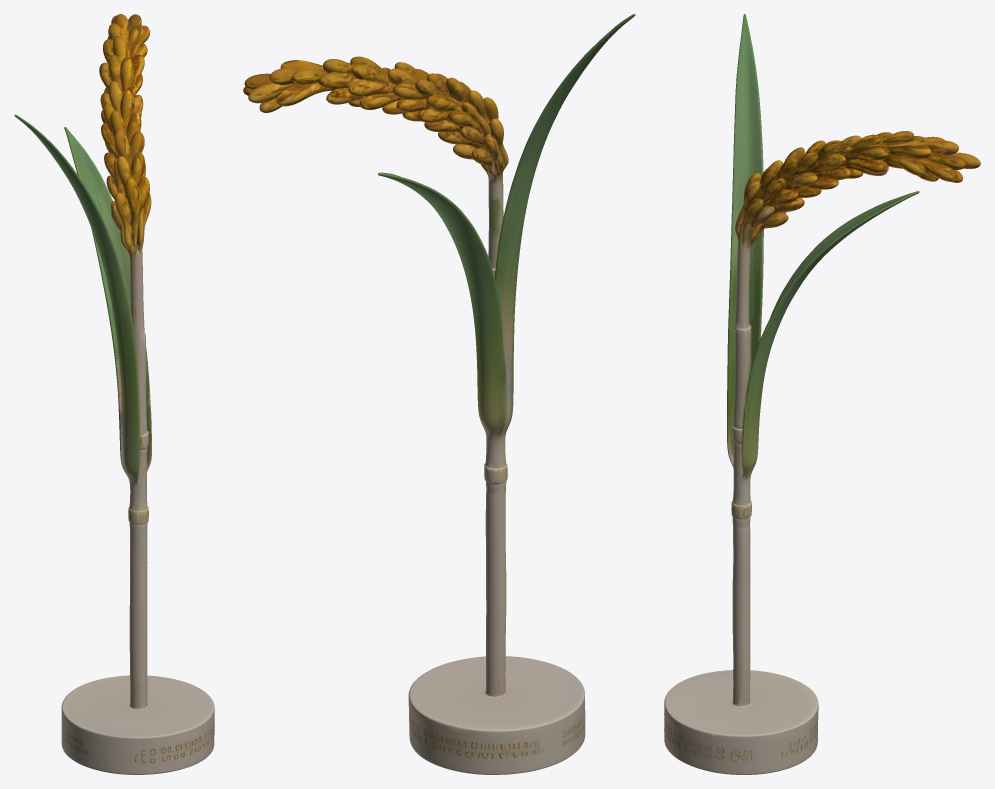
File: suiqi-new-life.glb
The picture shows the model from 3 angles, left to right: view 1: azimuth 30°, elevation 25°; view 2: azimuth 150°, elevation 25°; view 3: azimuth 270°, elevation 25°; orthographic projection. The views are drawn at different scales.
Visible parts, largest first — view 1: material; view 2: material; view 3: material.
Part boxes in pixels (<box>): material: <box>14,14,214,774</box>; material: <box>243,14,635,774</box>; material: <box>664,14,980,774</box>.
Bounding box in the file's own units: 0.413 × 1.1 × 0.4717.
Materials: 1 (1 with a texture image).
